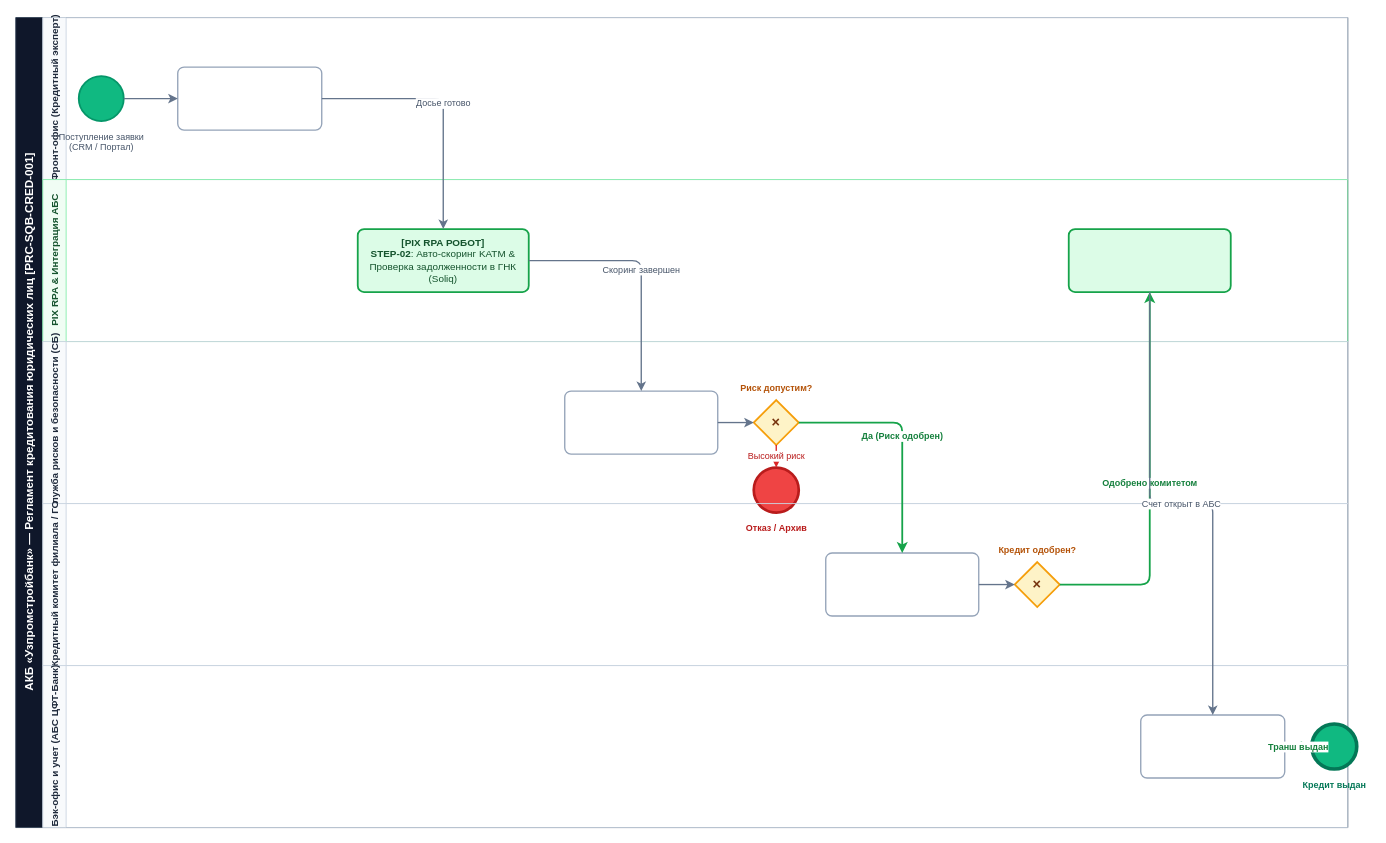
This 1386x843 diagram has some shape labels left out. Here are the shapes that lost their labels. From the top down, the centre of each, then its label:
(249,98): STEP-01 Первичная проверка и сбор пакета документов
(1149,260): [PIX RPA РОБОТ] STEP-05 : Генерация договора и открытие счета 16... в АБС ЦФТ
(641,422): STEP-03 Андеррайтинг, оценка рисков и ликвидности залога
(902,584): STEP-04 Рассмотрение и голосование Кредитного комитета
(1212,746): STEP-06 Подписание ЭЦП (Didox) и зачисление средств в АБС
